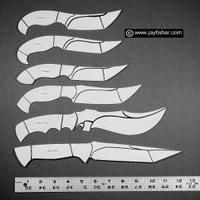knife: (12, 108, 178, 137), (5, 142, 185, 164), (12, 4, 127, 37), (15, 38, 130, 59), (17, 84, 156, 101), (12, 62, 134, 78)
